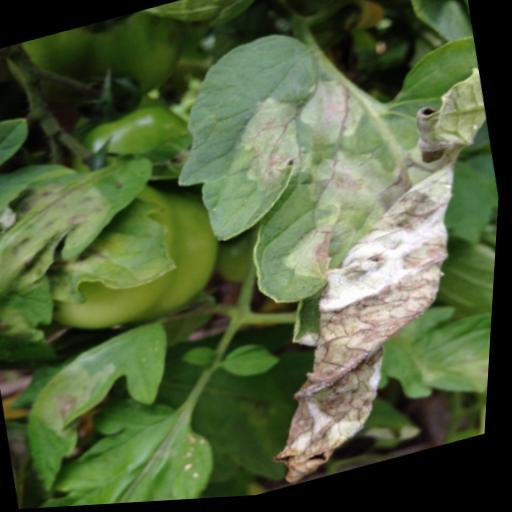Late Blight: (201, 39, 509, 497), (155, 23, 355, 254), (9, 316, 197, 492), (0, 146, 175, 312)
